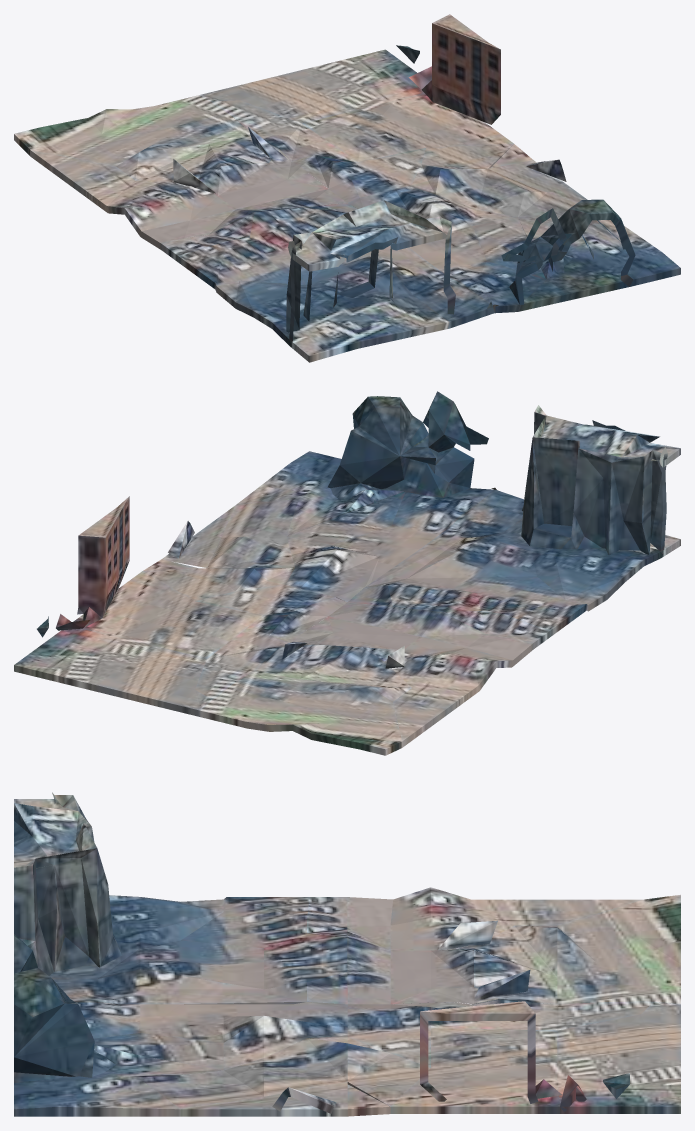
Rendered from chunk_6_3.glb.
The picture shows the model from 3 angles, top to bottom: view 1: azimuth 30°, elevation 25°; view 2: azimuth 150°, elevation 25°; view 3: azimuth 270°, elevation 25°; orthographic projection. The views are drawn at different scales.
Visible parts, largest first — view 1: hero-chunk; view 2: hero-chunk; view 3: hero-chunk.
Boxes of the visible parts, left/top/right/bottom form: hero-chunk: left=14, top=14, right=680, bottom=362; hero-chunk: left=14, top=391, right=680, bottom=755; hero-chunk: left=14, top=792, right=680, bottom=1116.
Size of the model in its own units: 55.43 by 16.12 by 76.32.
Materials: 1 (1 with a texture image).
